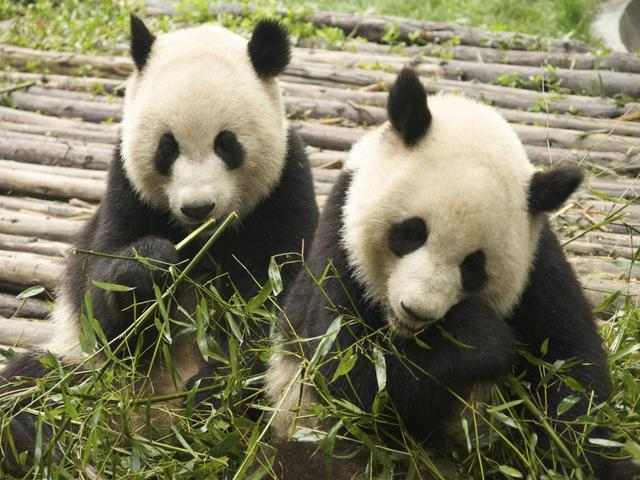panda: (260, 63, 619, 457), (73, 11, 319, 405)
